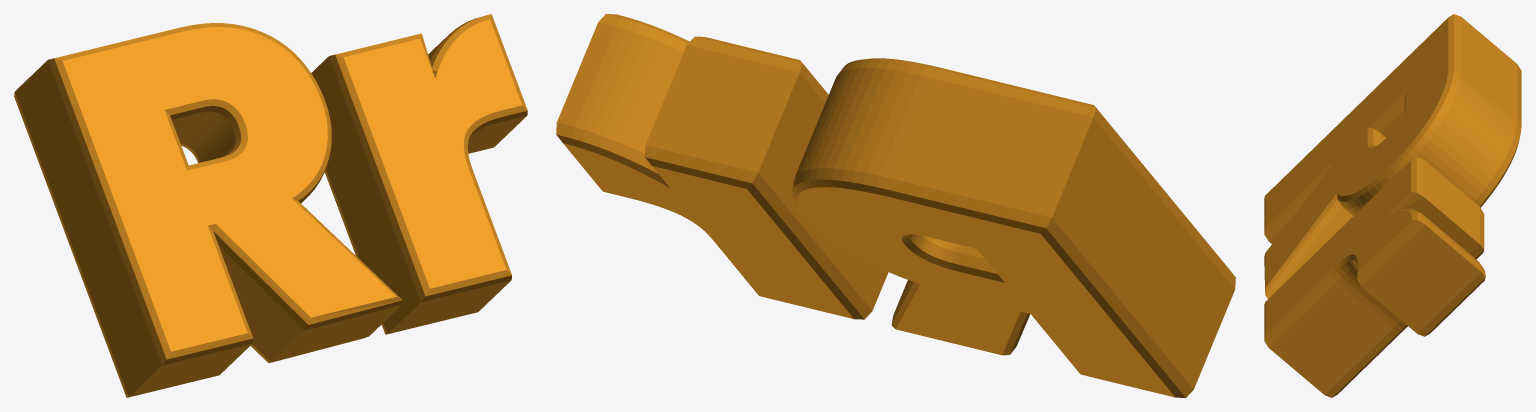
3 views of the same model, side by side, from view 1: azimuth 30°, elevation 25°; view 2: azimuth 150°, elevation 25°; view 3: azimuth 270°, elevation 25° (orthographic). The views are drawn at different scales.
Parts seen in each view (by area): view 1: letter; view 2: letter; view 3: letter.
Part boxes in pixels (bbox=[...]): letter: bbox=[14, 14, 527, 397]; letter: bbox=[556, 14, 1235, 397]; letter: bbox=[1264, 14, 1521, 397].
Bounding box in the file's own units: 1.49 × 0.9716 × 0.9377.
